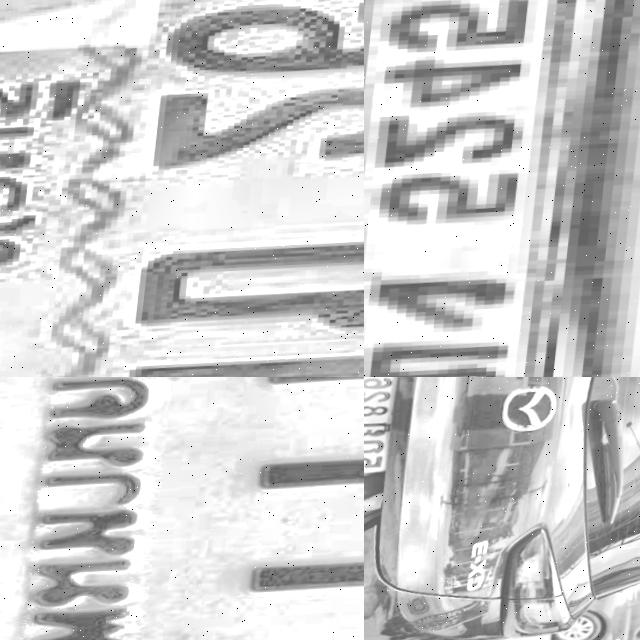license-plate: (0, 0, 364, 377), (364, 0, 640, 377), (0, 377, 364, 640), (364, 377, 413, 487)
